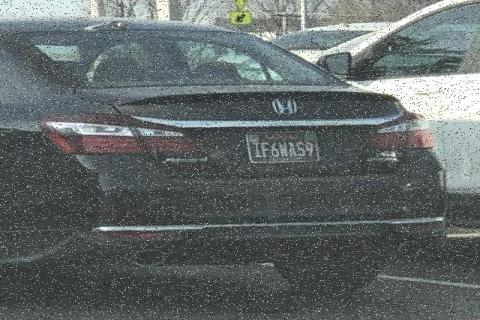LicensePlate: (243, 130, 320, 163)
